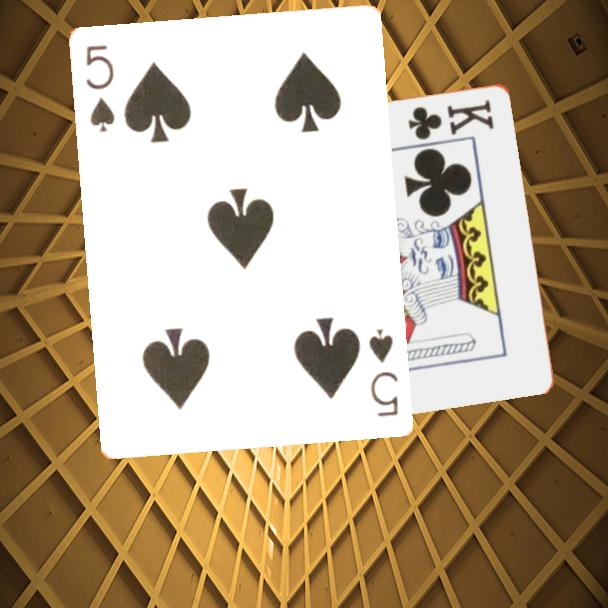c13: (404, 96, 498, 142)
s05: (365, 326, 402, 420), (83, 42, 118, 135)
